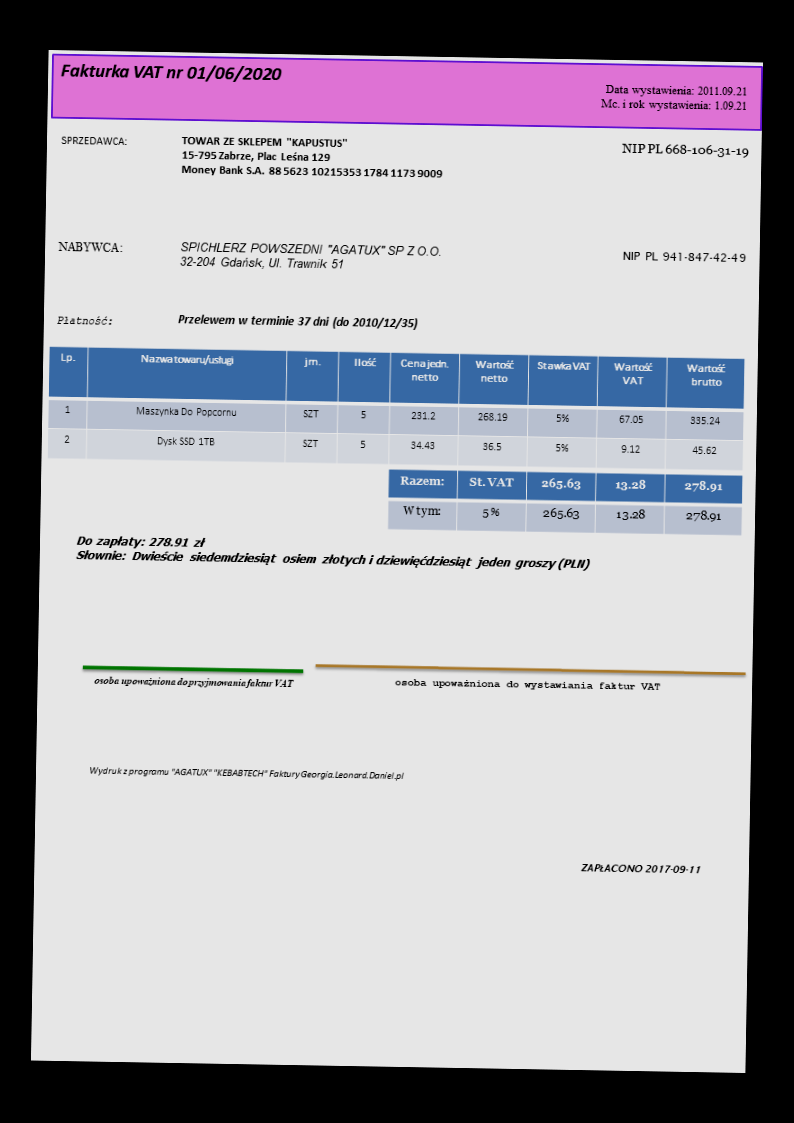Table: (46, 344, 746, 473), (387, 467, 744, 536)
TextBox: (74, 532, 593, 574), (178, 134, 443, 181), (177, 238, 445, 274), (88, 764, 406, 784), (59, 61, 283, 86), (175, 311, 418, 333), (597, 79, 748, 114), (393, 675, 662, 693), (92, 674, 295, 692), (618, 140, 750, 161), (621, 249, 748, 266), (579, 859, 702, 876), (56, 238, 124, 255), (59, 133, 128, 149), (55, 312, 113, 327)
